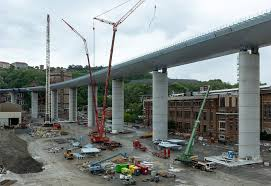bridge: (1, 10, 270, 95)
